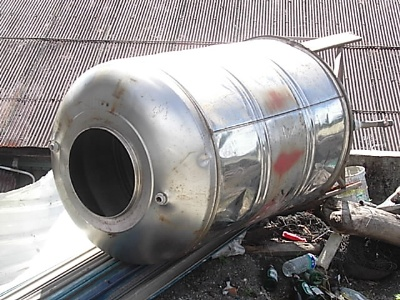bottle: (282, 252, 319, 277), (291, 275, 314, 300), (265, 263, 279, 288)
bucket: (332, 165, 371, 202)
water_tower: (50, 31, 394, 265)
